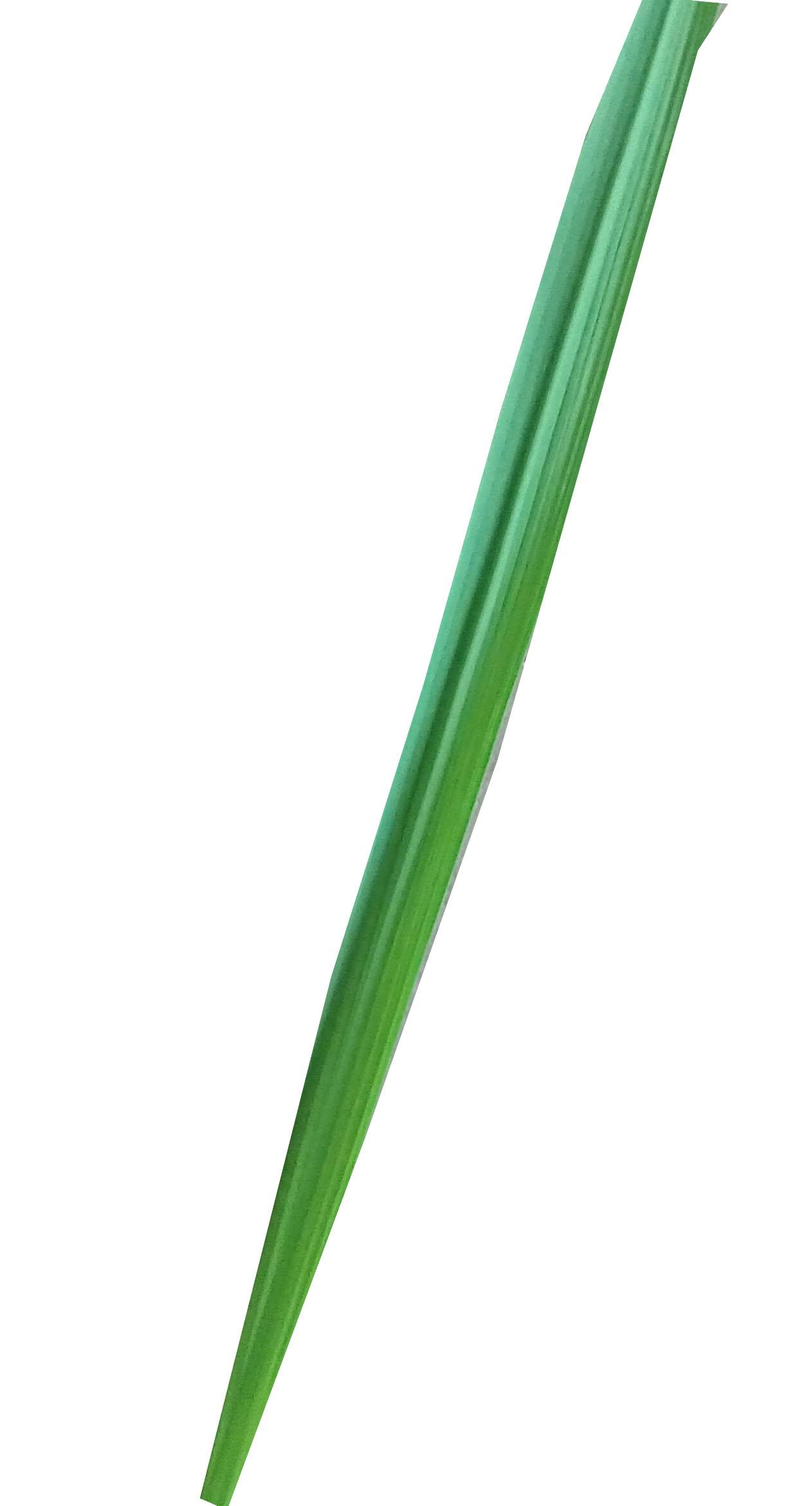Healthy: (196, 0, 731, 1506)
